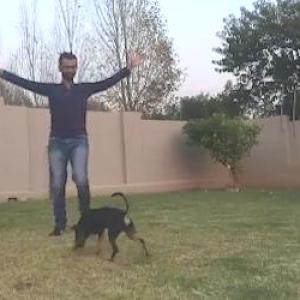takeoff: (1, 35, 150, 248)
